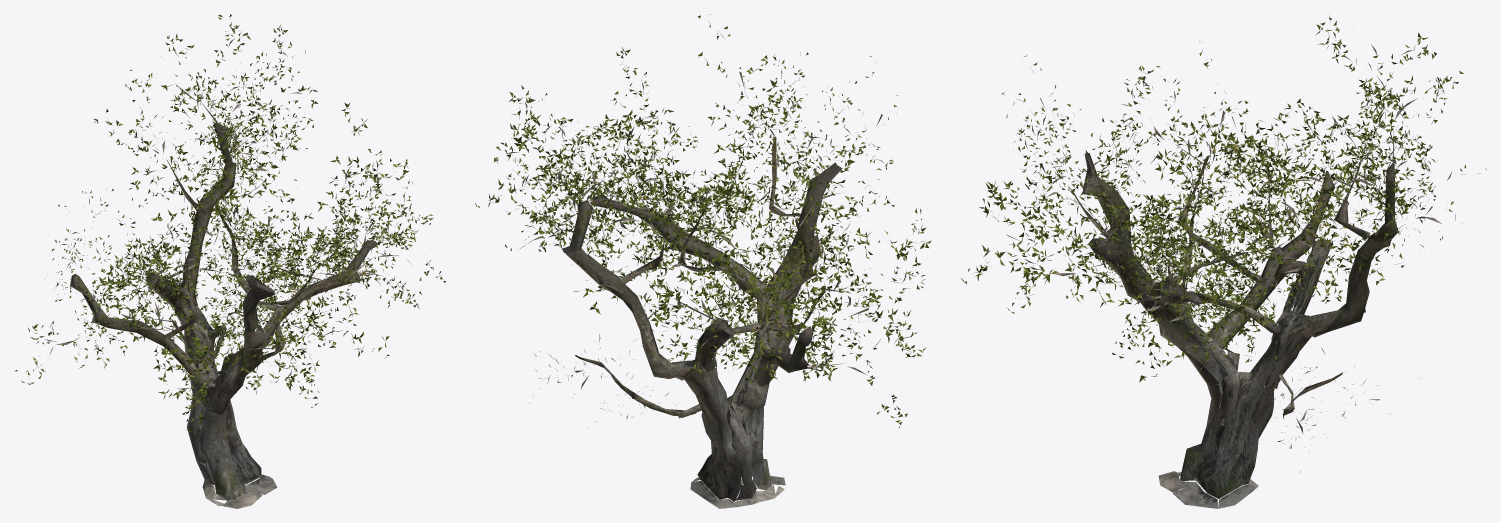
The model's file is tree.glb.
The picture shows the model from 3 angles, left to right: view 1: azimuth 30°, elevation 25°; view 2: azimuth 150°, elevation 25°; view 3: azimuth 270°, elevation 25°; orthographic projection. The views are drawn at different scales.
Parts seen in each view (by area): view 1: island_tree_01_LOD0; view 2: island_tree_01_LOD0; view 3: island_tree_01_LOD0.
Boxes of the visible parts, x1,y1,x2,y2 form: island_tree_01_LOD0: [14, 14, 445, 508]; island_tree_01_LOD0: [475, 14, 931, 508]; island_tree_01_LOD0: [961, 16, 1486, 508].
Bounding box in the file's own units: 4.71 × 5 × 4.75.
3 materials, 3 textured.
